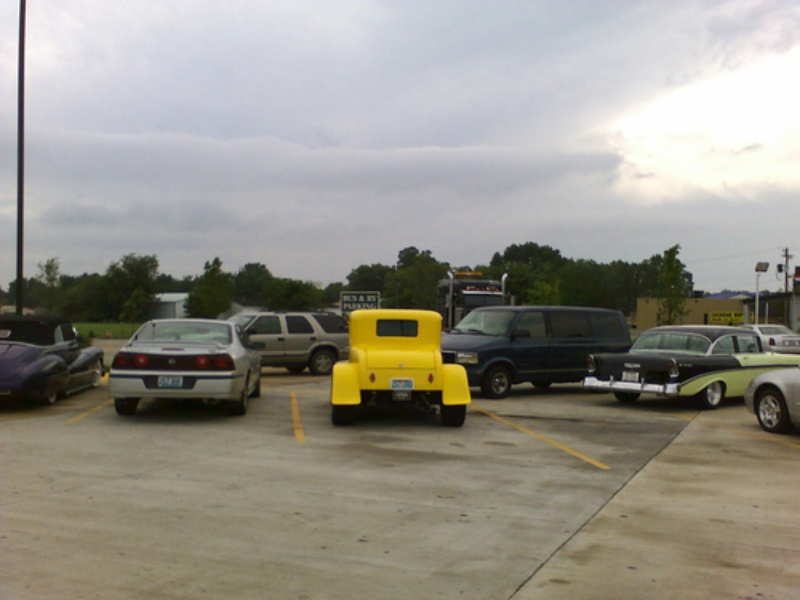car: (583, 325, 800, 408), (440, 304, 631, 398), (331, 308, 470, 426), (109, 318, 265, 418), (1, 313, 103, 406), (225, 312, 348, 375), (436, 270, 508, 323), (743, 366, 800, 432), (737, 324, 800, 353)
